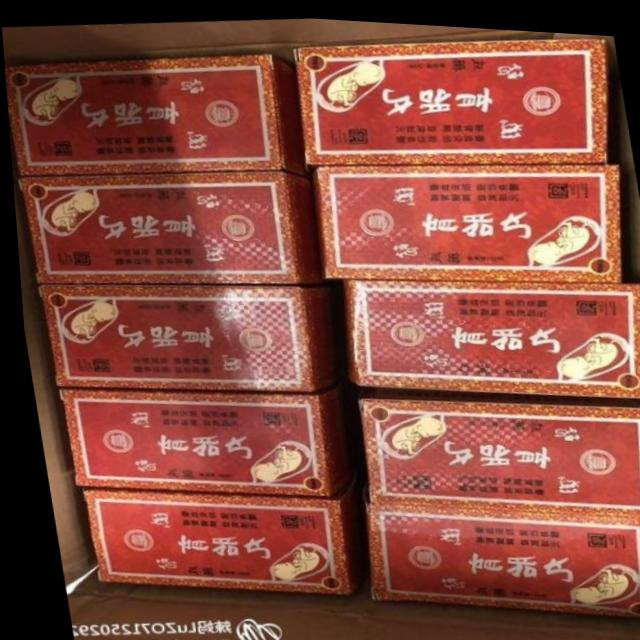box: (294, 29, 605, 162), (4, 50, 307, 175), (354, 380, 640, 510), (311, 156, 620, 275), (17, 167, 319, 284), (340, 274, 640, 389), (52, 378, 346, 493), (74, 475, 361, 589), (34, 281, 335, 388), (359, 499, 640, 606)
